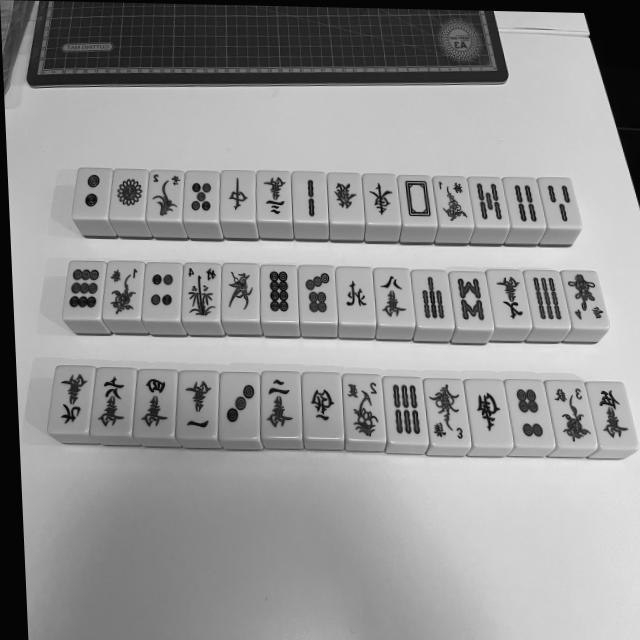bai: (398, 175, 436, 226)
east: (363, 173, 401, 225)
f1: (430, 175, 472, 227)
f2: (143, 171, 185, 222)
f3: (422, 378, 471, 447)
f4: (179, 265, 222, 323)
fa: (325, 172, 365, 223)
ff1: (99, 262, 146, 321)
ff2: (343, 375, 388, 443)
ff3: (544, 379, 598, 449)
ff4: (559, 271, 610, 330)
m1: (173, 371, 221, 440)
m2: (260, 372, 305, 440)
m3: (256, 171, 293, 222)
m4: (131, 370, 179, 440)
m5: (586, 382, 640, 451)
m6: (89, 368, 140, 436)
m7: (485, 268, 532, 328)
m8: (373, 270, 414, 327)
m9: (43, 365, 96, 435)
north: (337, 267, 377, 324)
s1: (222, 265, 261, 320)
s2: (290, 170, 327, 222)
s3: (536, 176, 580, 229)
s4: (501, 175, 545, 229)
s5: (466, 175, 508, 228)
s6: (381, 376, 426, 446)
s7: (411, 271, 453, 330)
s8: (448, 271, 494, 332)
s9: (522, 270, 570, 329)
south: (463, 380, 512, 449)
t1: (107, 168, 150, 221)
t2: (71, 169, 114, 220)
t3: (214, 372, 261, 441)
t4: (138, 263, 183, 323)
t5: (180, 172, 220, 223)
t6: (504, 379, 555, 449)
t7: (297, 266, 336, 323)
t8: (258, 265, 299, 322)
t9: (60, 261, 107, 321)
west: (301, 373, 346, 441)
zhong: (218, 170, 257, 221)
